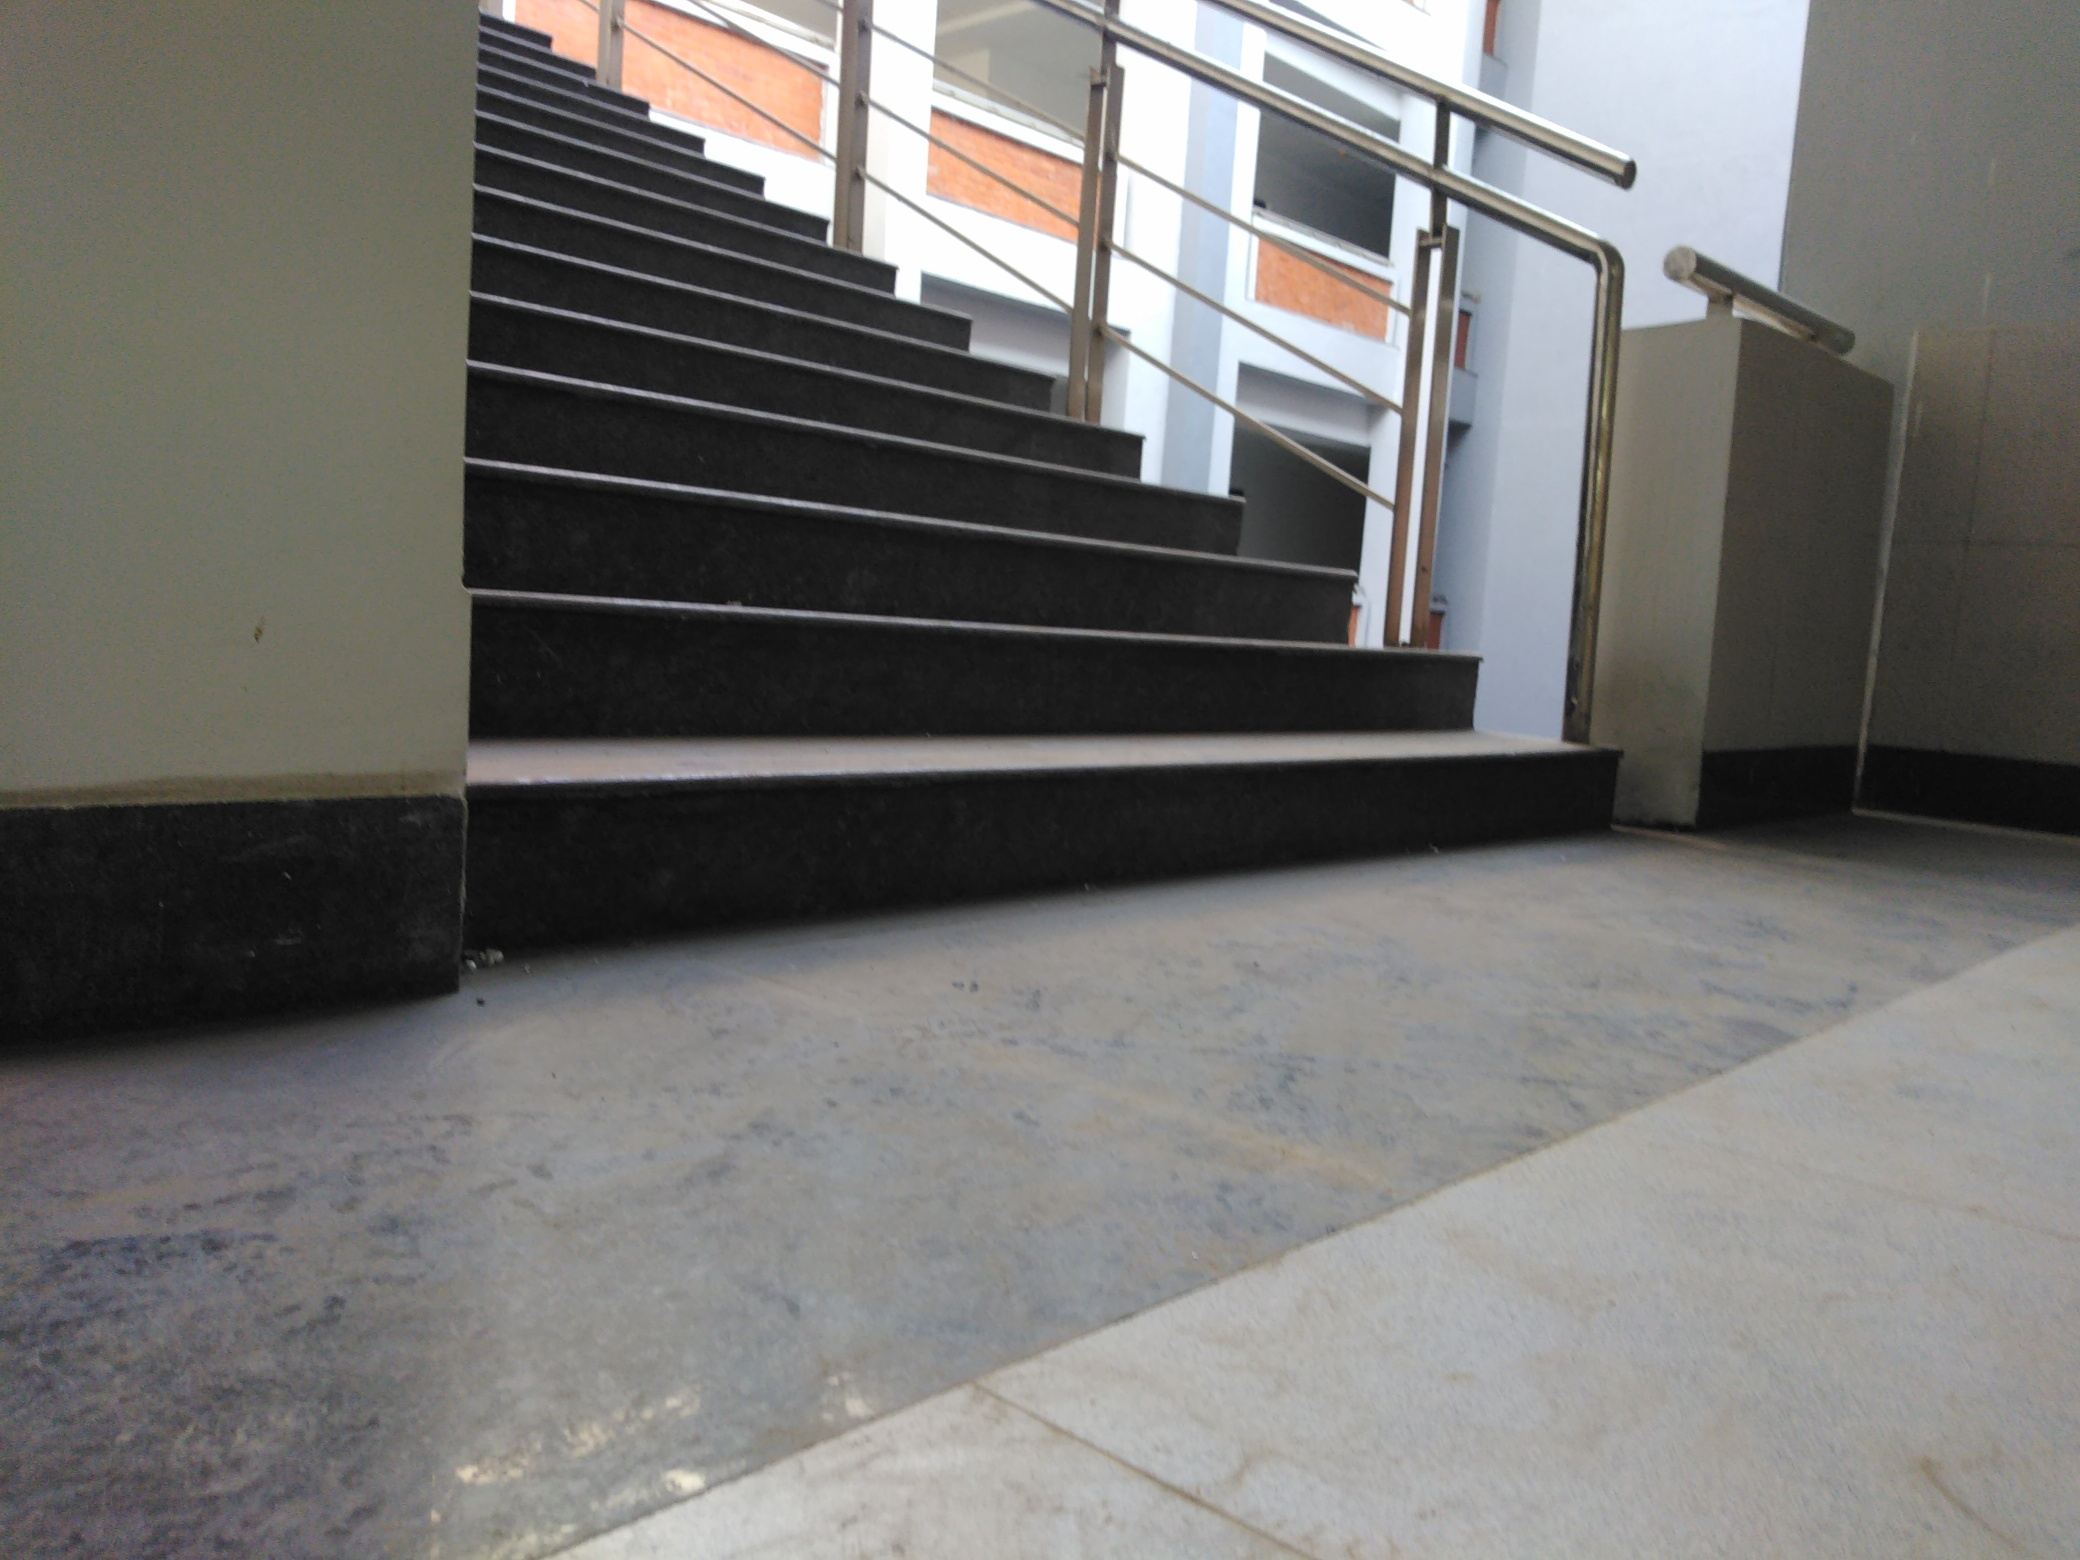stairs_up: (483, 46, 1612, 937)
